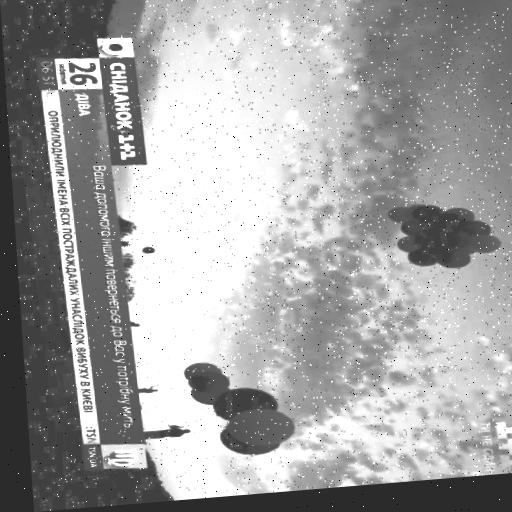balloon: (220, 404, 291, 446), (205, 382, 272, 421), (214, 426, 273, 457), (179, 368, 226, 393), (181, 382, 225, 407), (175, 358, 218, 379), (465, 226, 498, 250), (435, 222, 467, 246), (433, 241, 467, 263), (429, 206, 460, 227), (410, 200, 443, 219), (384, 199, 413, 220), (458, 213, 488, 233), (405, 243, 435, 263), (416, 216, 439, 235), (447, 201, 472, 218), (398, 214, 420, 233), (393, 233, 414, 248), (409, 230, 429, 245), (425, 236, 438, 256), (139, 246, 154, 253)
